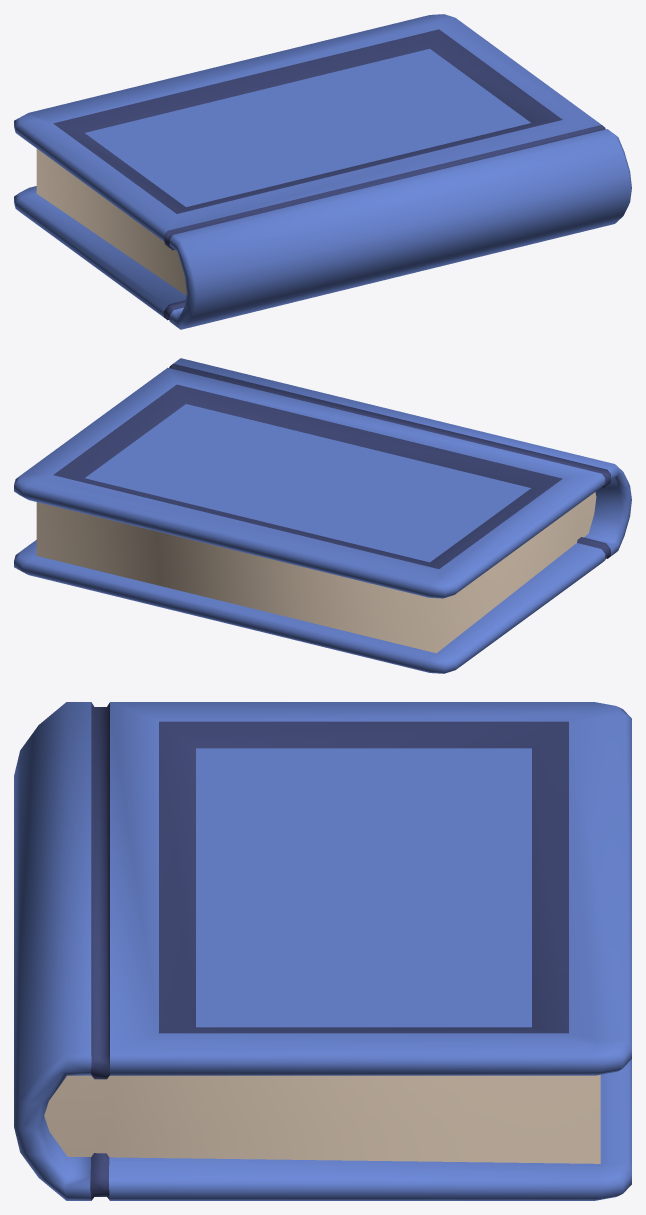
Rendered from book_blue_2.fbx.
3 renders of one model, top to bottom at view 1: azimuth 30°, elevation 25°; view 2: azimuth 150°, elevation 25°; view 3: azimuth 270°, elevation 25°, orthographic. The views are drawn at different scales.
Visible parts, largest first — view 1: Cube.002; view 2: Cube.002; view 3: Cube.002.
Part boxes in pixels (<box>): Cube.002: <box>14,14,631,329</box>; Cube.002: <box>14,358,631,673</box>; Cube.002: <box>14,702,631,1200</box>.
Bounding box in the file's own units: 91.83 × 17.78 × 67.28.
1 material, 1 textured.
